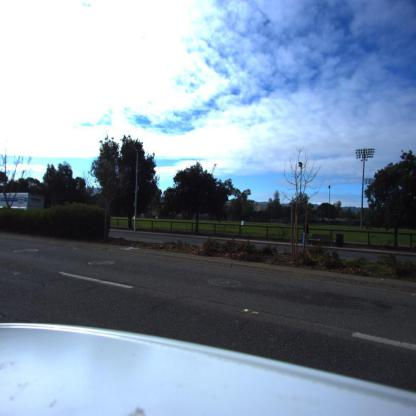truck: (0, 187, 49, 213)
